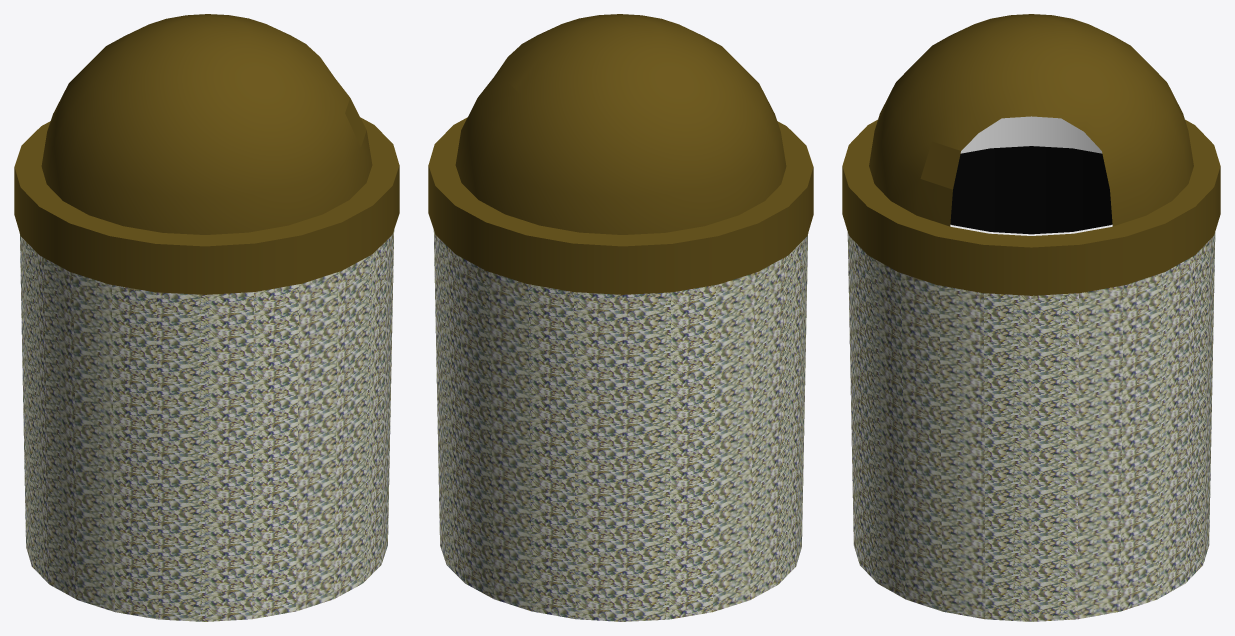
3 renders of one model, left to right at view 1: azimuth 30°, elevation 25°; view 2: azimuth 150°, elevation 25°; view 3: azimuth 270°, elevation 25°, orthographic.
Visible parts, largest first — view 1: Mesh1_Group1_Model; view 2: Mesh1_Group1_Model; view 3: Mesh1_Group1_Model.
Part boxes in pixels (left/top/right/bottom): Mesh1_Group1_Model: left=14, top=14, right=399, bottom=621; Mesh1_Group1_Model: left=428, top=14, right=813, bottom=621; Mesh1_Group1_Model: left=842, top=14, right=1220, bottom=621.
Size of the model in its own units: 0.6822 by 1 by 0.6685.
4 materials, 1 textured.
